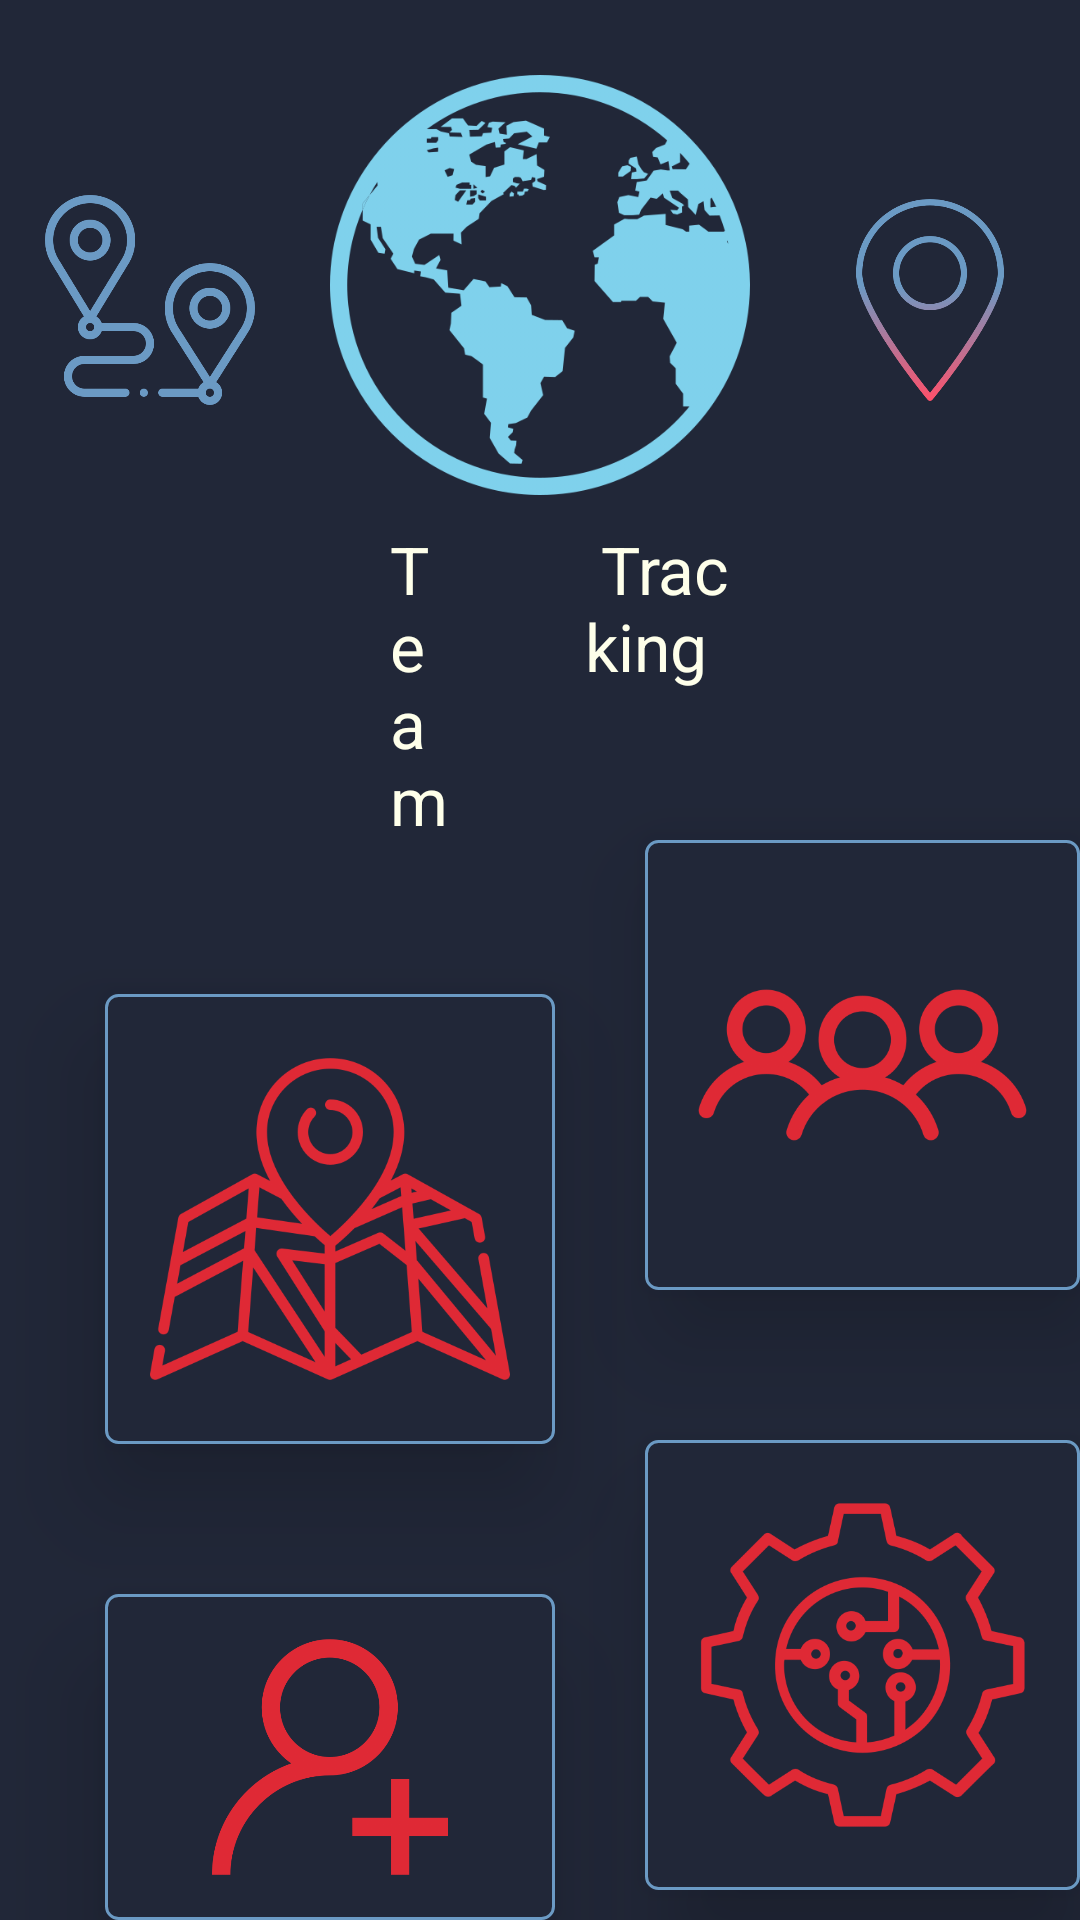

Icon click points for this 1080w x 1920h phone screenshot, format (x,y):
location: (930,300)
